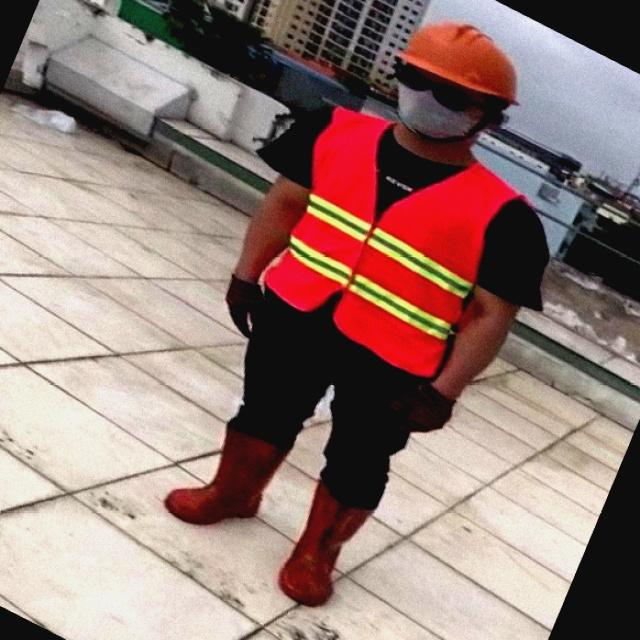helmet: (388, 17, 527, 104)
safety_vest: (272, 111, 534, 402)
